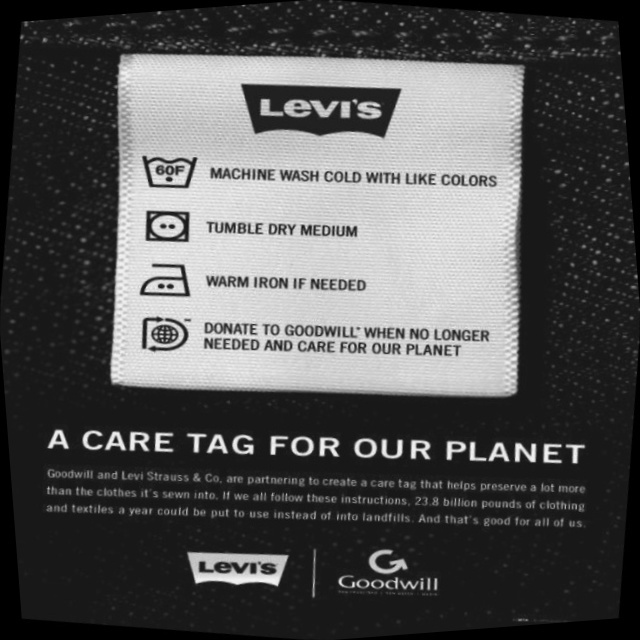30C: (134, 139, 207, 201)
iron_medium: (132, 251, 201, 309)
tumble_dry_medium: (135, 201, 200, 254)
